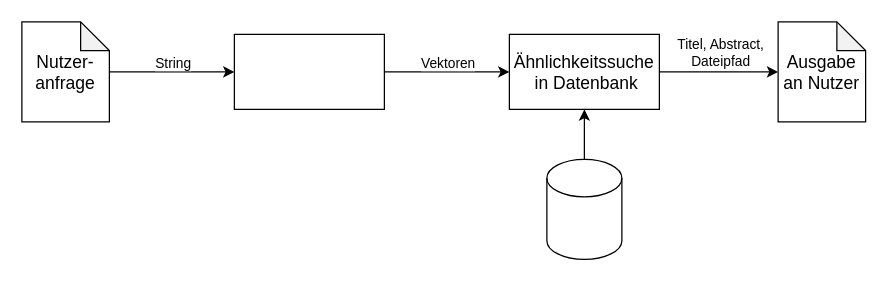
The diagram is 888 pixels wide and 281 high, and some of its shapes have lost their labels. Here are the shapes that lost their labels. From the top down, the centre of each, then its label:
At (308,71): "Embedding-Modell SPECTER".
At (584,208): "DB".
